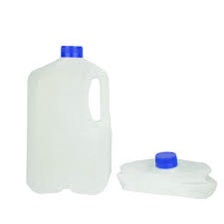bottle: (25, 40, 114, 199), (114, 148, 220, 201)
